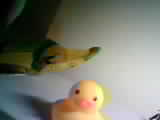duck: (61, 77, 111, 115)
